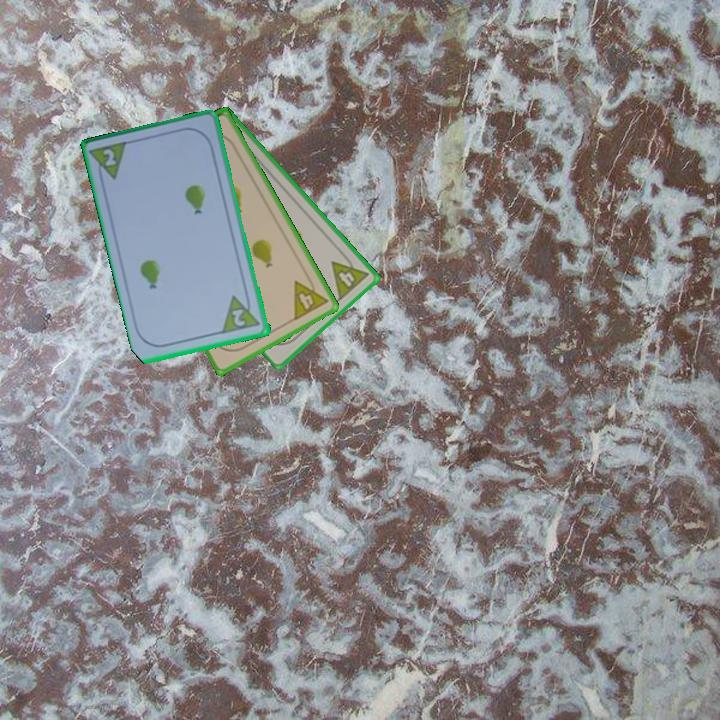2p: (219, 290, 264, 337), (100, 145, 119, 170)
4p: (328, 249, 371, 303), (290, 271, 331, 323)
